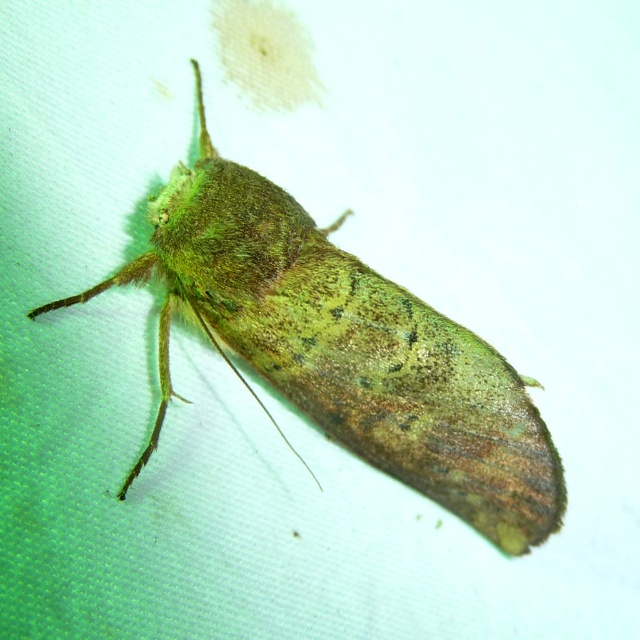Moths and butterflies: (25, 58, 571, 559)
